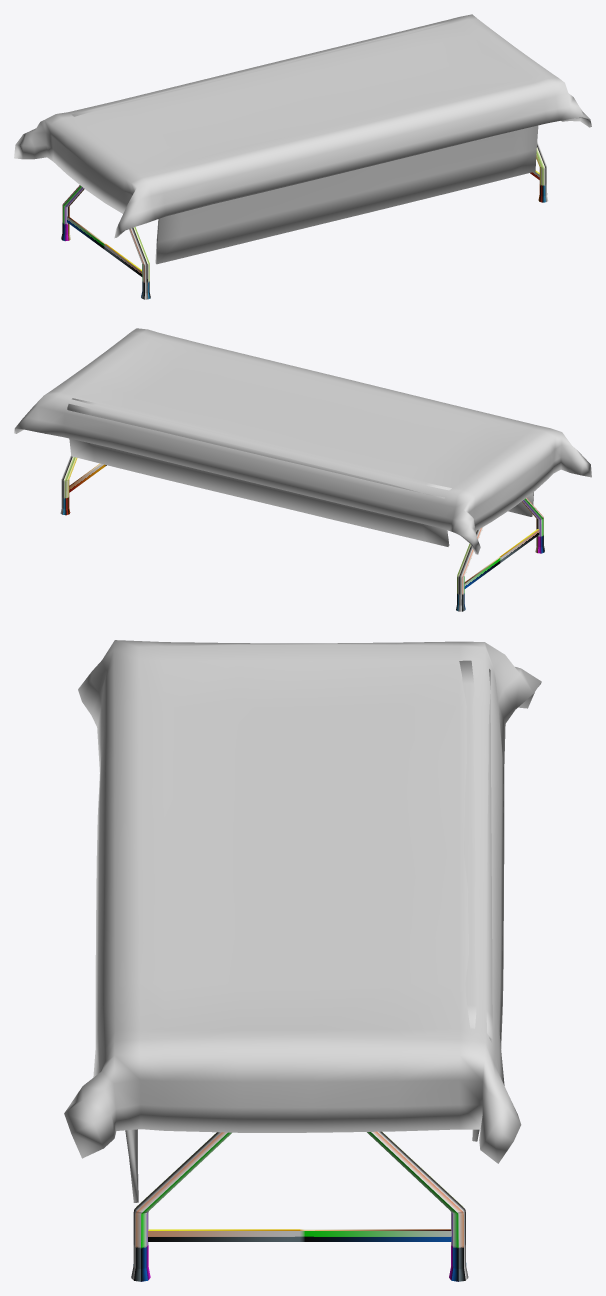
The model's file is PasarMeja1.fbx.
3 renders of one model, top to bottom at view 1: azimuth 30°, elevation 25°; view 2: azimuth 150°, elevation 25°; view 3: azimuth 270°, elevation 25°, orthographic. The views are drawn at different scales.
Parts seen in each view (by area): view 1: Plane.041, Plane.046, Cube.108; view 2: Plane.041, Plane.046, Cube.108; view 3: Plane.041, Cube.108, Plane.046.
Part boxes in pixels (left/top/right/bottom): Plane.041: left=14, top=14, right=591, bottom=238; Plane.046: left=71, top=21, right=538, bottom=264; Cube.108: left=61, top=142, right=548, bottom=299; Plane.041: left=14, top=328, right=591, bottom=554; Plane.046: left=67, top=398, right=533, bottom=546; Cube.108: left=60, top=455, right=544, bottom=611; Plane.041: left=64, top=640, right=541, bottom=1163; Cube.108: left=131, top=1131, right=468, bottom=1281; Plane.046: left=125, top=660, right=492, bottom=1202.
Size of the model in its own units: 383 by 93.28 by 166.
